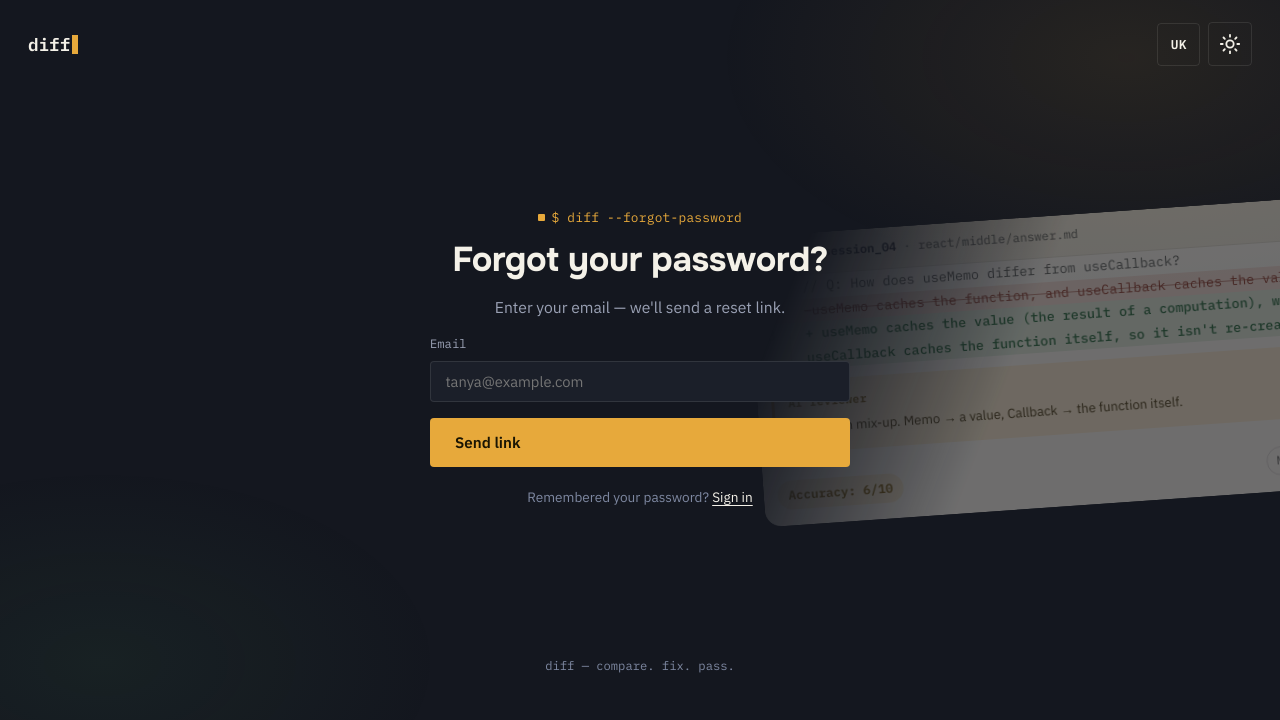
Test: ResetPasswordPage i18n › shows a friendly message on a 429 and keeps the form so the user can retry later
This screenshot has width=1280, height=720.
Step 1. Type "a@b.co" into the field labelled "Email" → (640, 381), box x1=430 y1=361 x2=850 y2=402
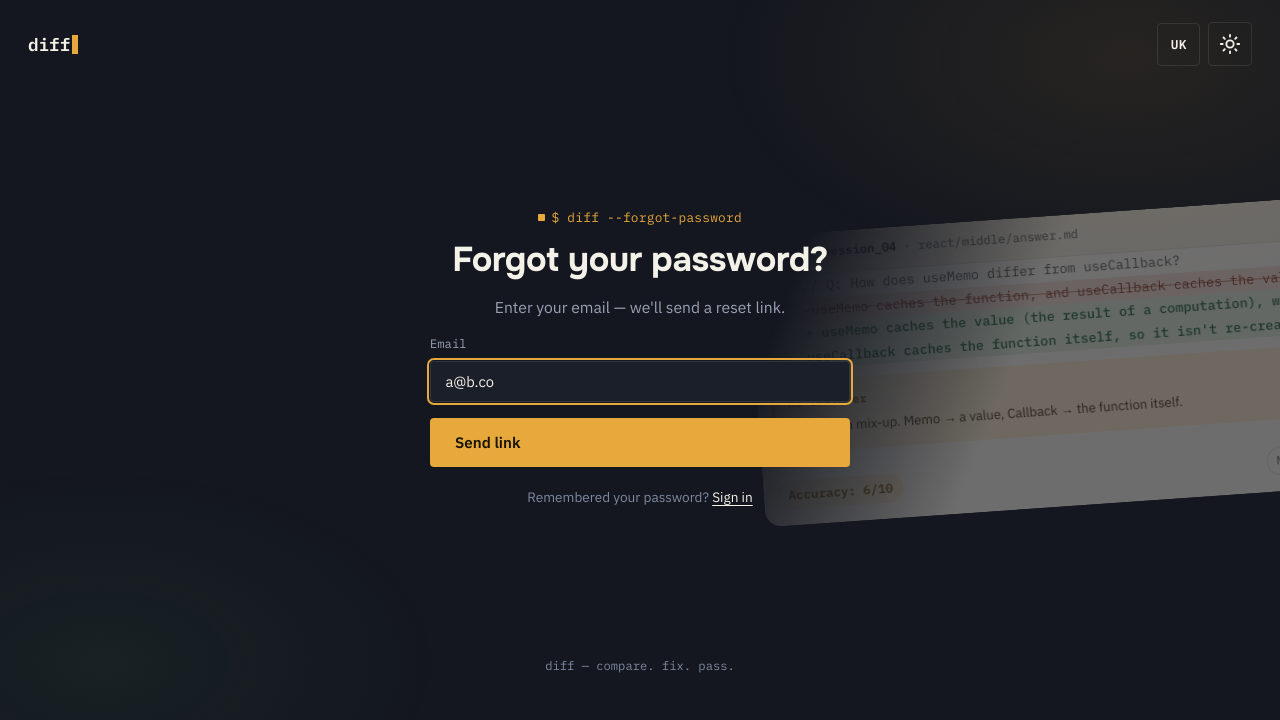
Step 2. Click the button "Send link" → (488, 442), box x1=430 y1=418 x2=850 y2=467
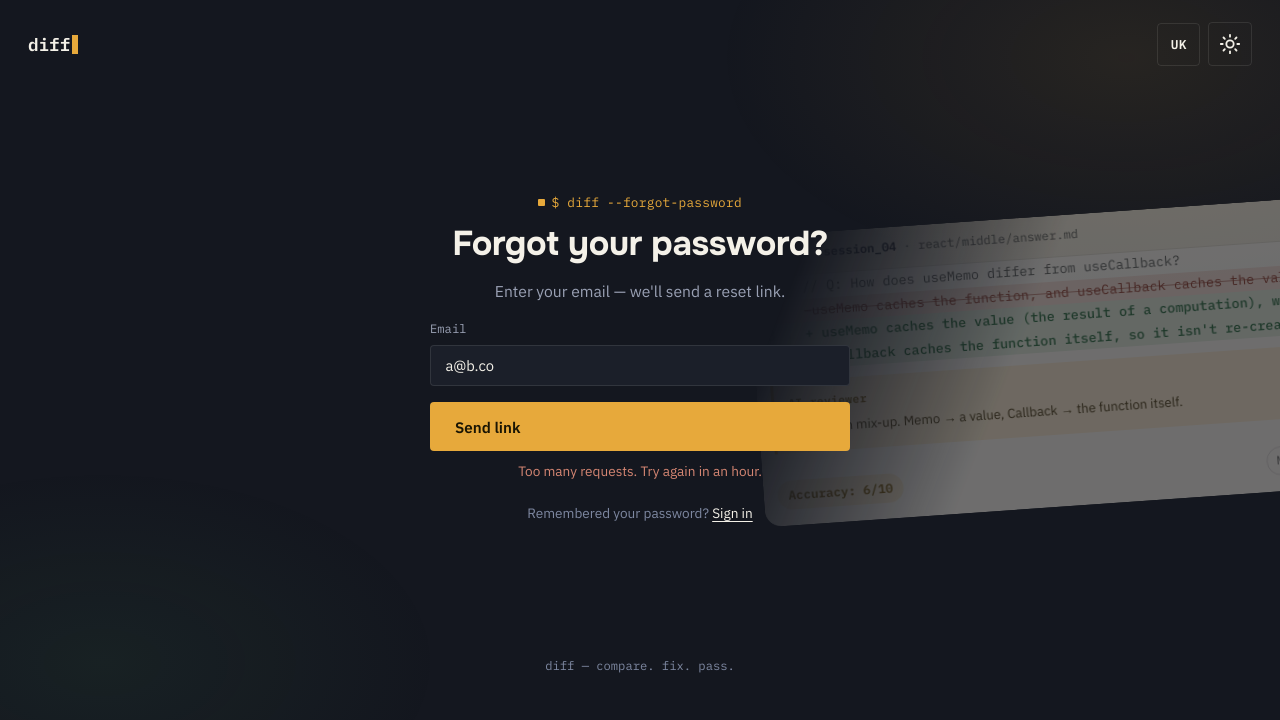
Expected: the heading "Forgot your password?" is shown, x1=430 y1=224 x2=850 y2=265
Expected: the text "Too many requests. Try again in an hour." is shown, x1=518 y1=462 x2=762 y2=480
